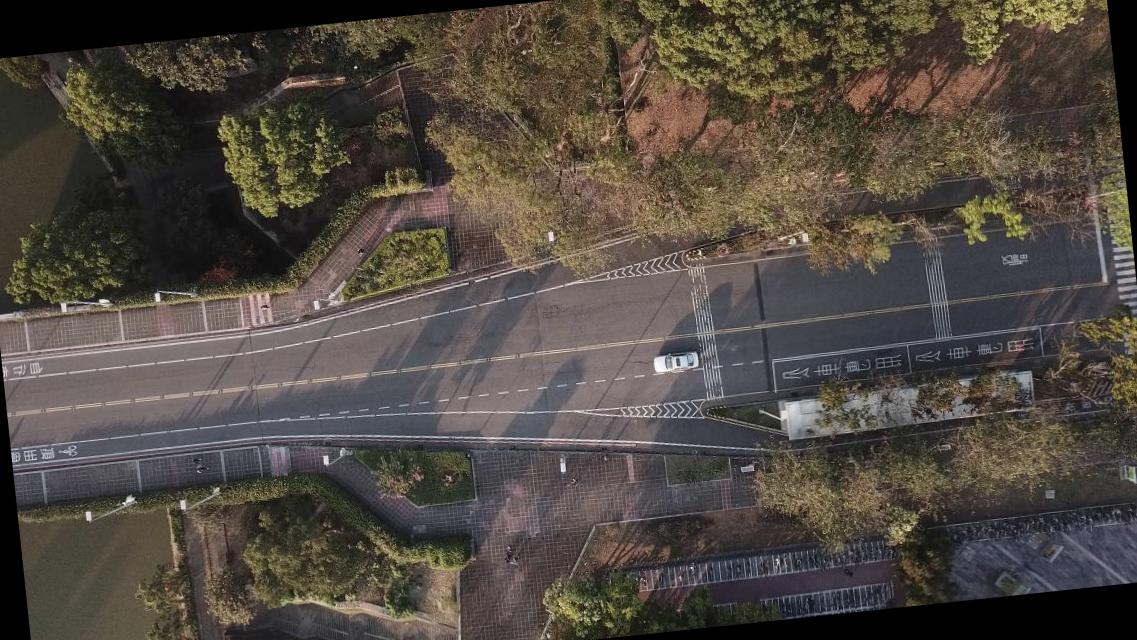vehicle: (652, 348, 700, 373)
